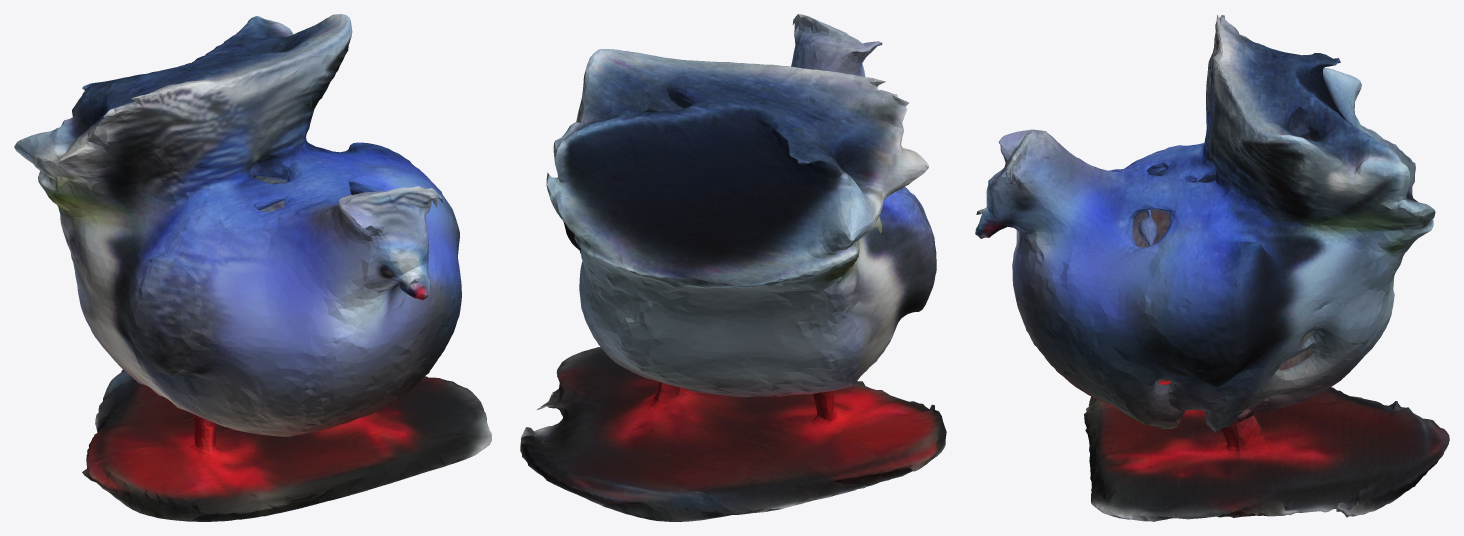
The picture shows the model from 3 angles, left to right: view 1: azimuth 30°, elevation 25°; view 2: azimuth 150°, elevation 25°; view 3: azimuth 270°, elevation 25°; orthographic projection. The views are drawn at different scales.
Bounding box in the file's own units: 0.9713 × 0.9398 × 1.08.
1 material, 1 textured.
